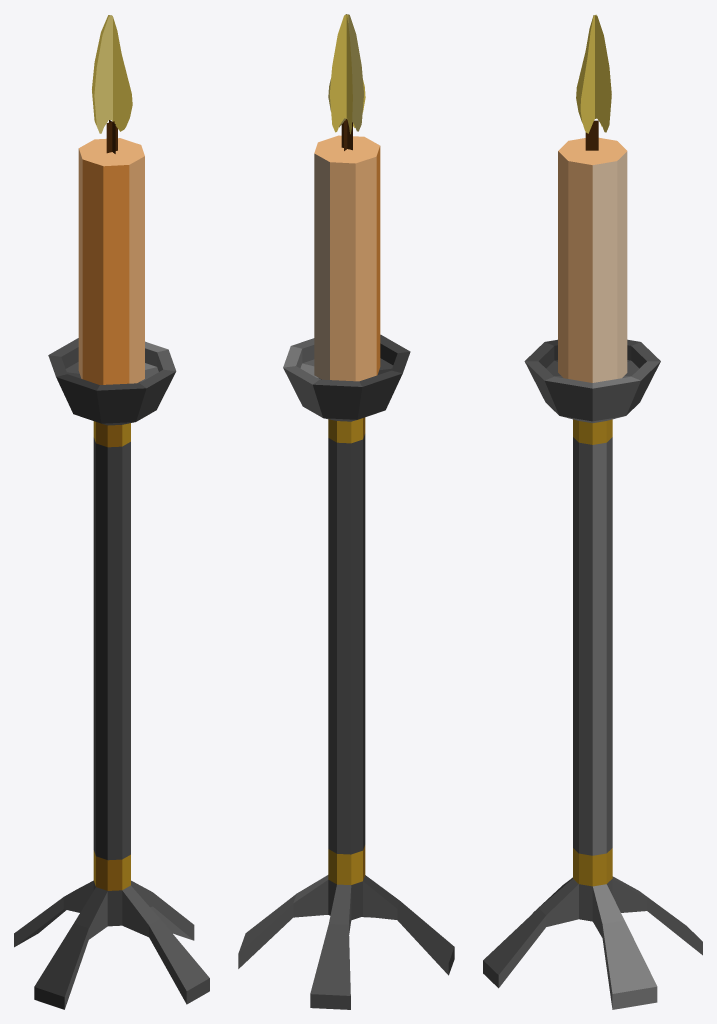
The model's file is candle_338x14.gltf.
3 renders of one model, left to right at view 1: azimuth 30°, elevation 25°; view 2: azimuth 150°, elevation 25°; view 3: azimuth 270°, elevation 25°, orthographic.
Parts seen in each view (by area): view 1: candle_338x14; view 2: candle_338x14; view 3: candle_338x14.
Boxes of the visible parts, box(x1,y1,x2,y2) form: candle_338x14: box(14, 15, 209, 1009); candle_338x14: box(238, 14, 454, 1009); candle_338x14: box(483, 14, 702, 1009).
Size of the model in its own units: 0.4538 by 2.27 by 0.4768.
1 material, 1 textured.
